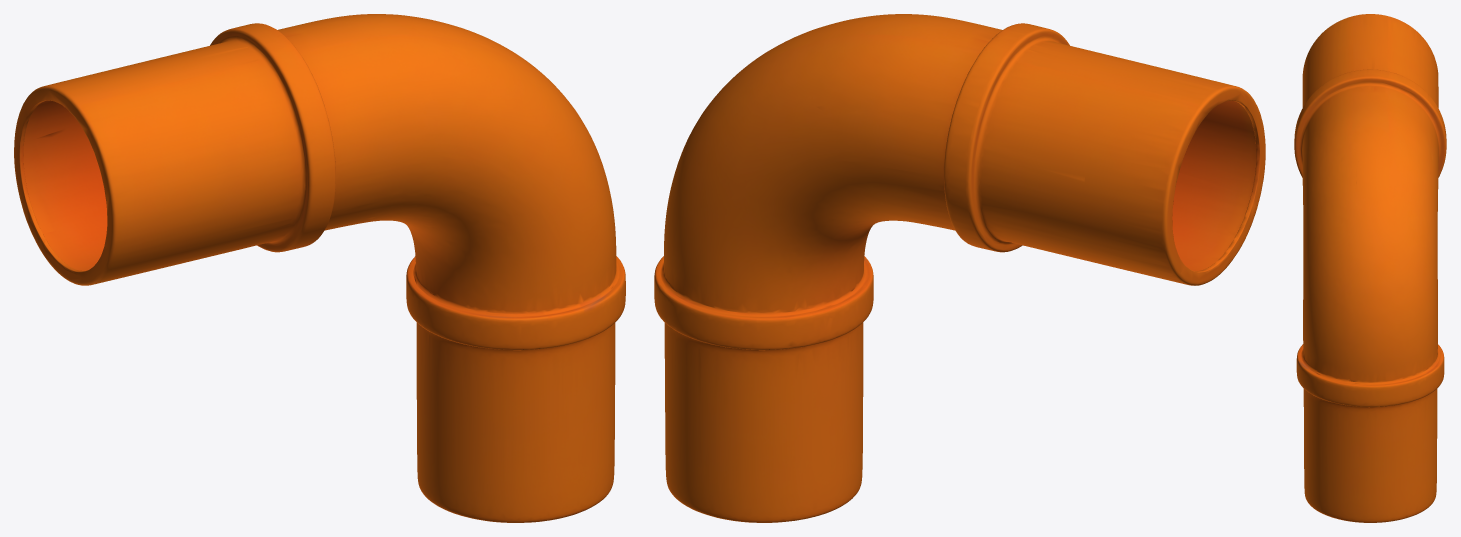
File: left turn pipe.glb
3 views of the same model, side by side, from view 1: azimuth 30°, elevation 25°; view 2: azimuth 150°, elevation 25°; view 3: azimuth 270°, elevation 25° (orthographic). The views are drawn at different scales.
Visible parts, largest first — view 1: material; view 2: material; view 3: material.
Boxes of the visible parts, x1,y1,x2,y2 form: material: (14, 14, 625, 522); material: (654, 14, 1265, 522); material: (1294, 14, 1446, 522).
Bounding box in the file's own units: 0.915 × 0.8136 × 0.3285.
1 material, 1 textured.
